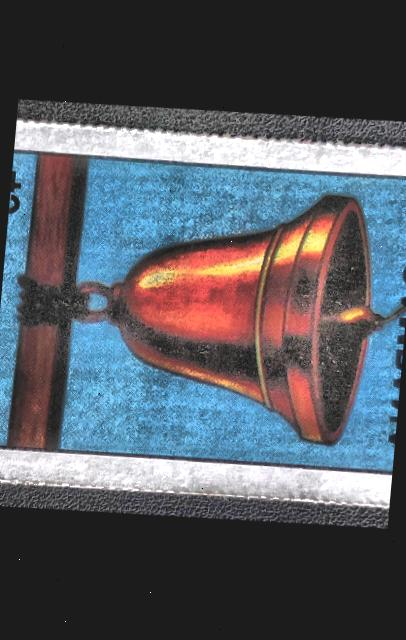La Campana: (0, 121, 406, 497)
